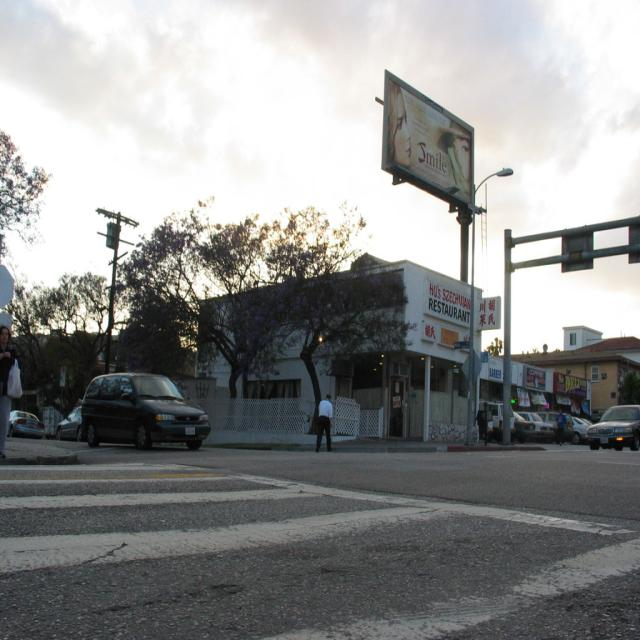car: (80, 372, 210, 451)
